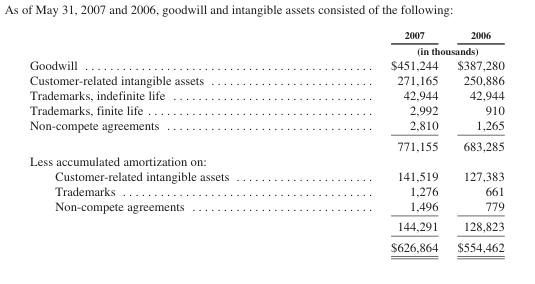table: (28, 29, 503, 253)
table column: (28, 29, 309, 253), (309, 29, 446, 253), (446, 29, 503, 253)
table column header: (28, 29, 503, 56)
table projected row header: (28, 152, 503, 168)
table row: (28, 216, 503, 236), (28, 117, 503, 135), (28, 198, 503, 216), (28, 135, 503, 152), (28, 236, 503, 253), (28, 56, 503, 72), (28, 152, 503, 168), (28, 72, 503, 87), (28, 87, 503, 102), (28, 102, 503, 117), (28, 168, 503, 183), (28, 183, 503, 198), (28, 42, 503, 56), (28, 29, 503, 42)
table spanning cell: (309, 42, 503, 56)
